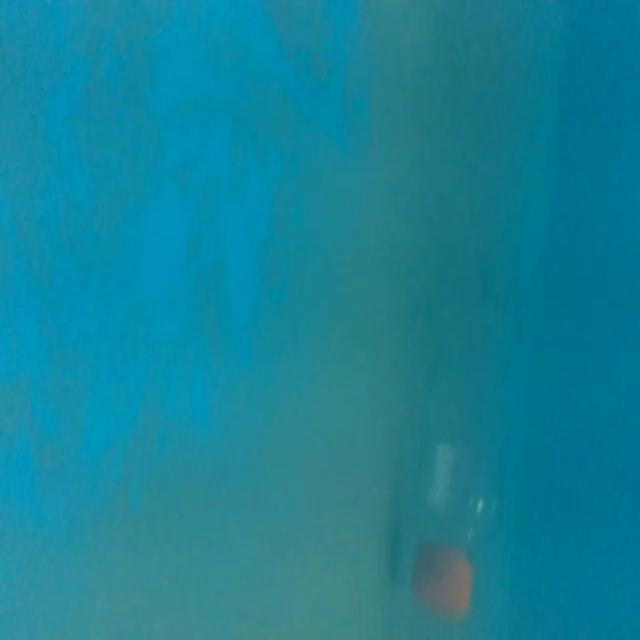plastic bottle: (388, 253, 558, 617)
